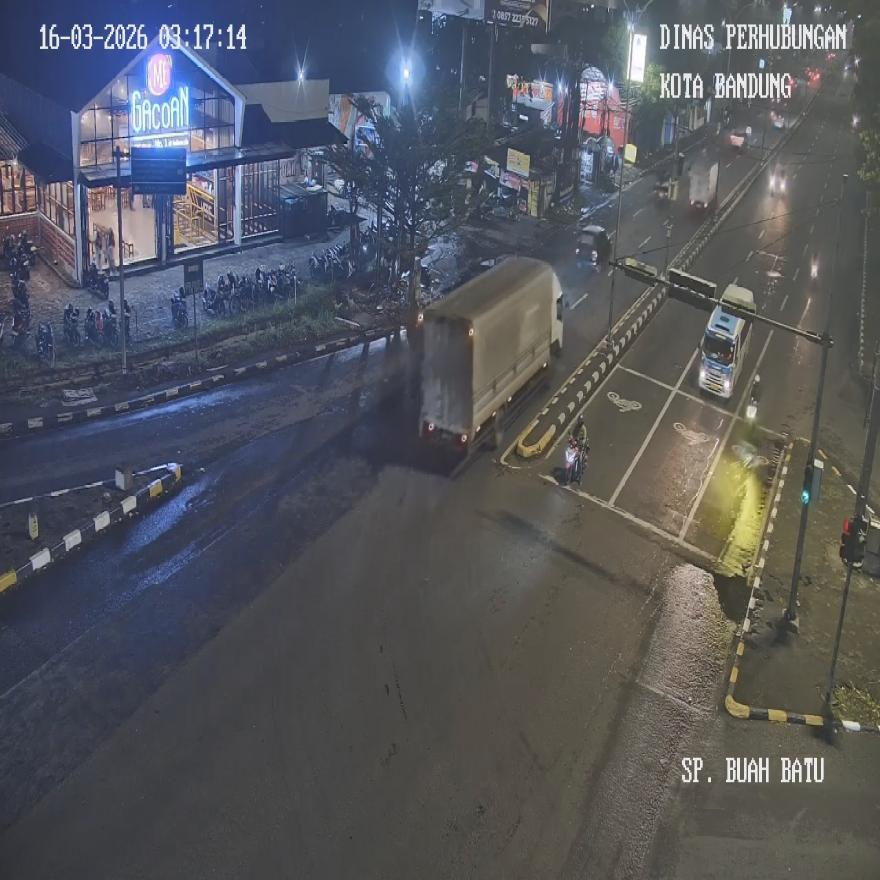Truk: (564, 439, 587, 484), (61, 306, 83, 348), (83, 306, 105, 347), (88, 264, 109, 302), (170, 287, 188, 328), (36, 321, 54, 362), (202, 284, 223, 318)
